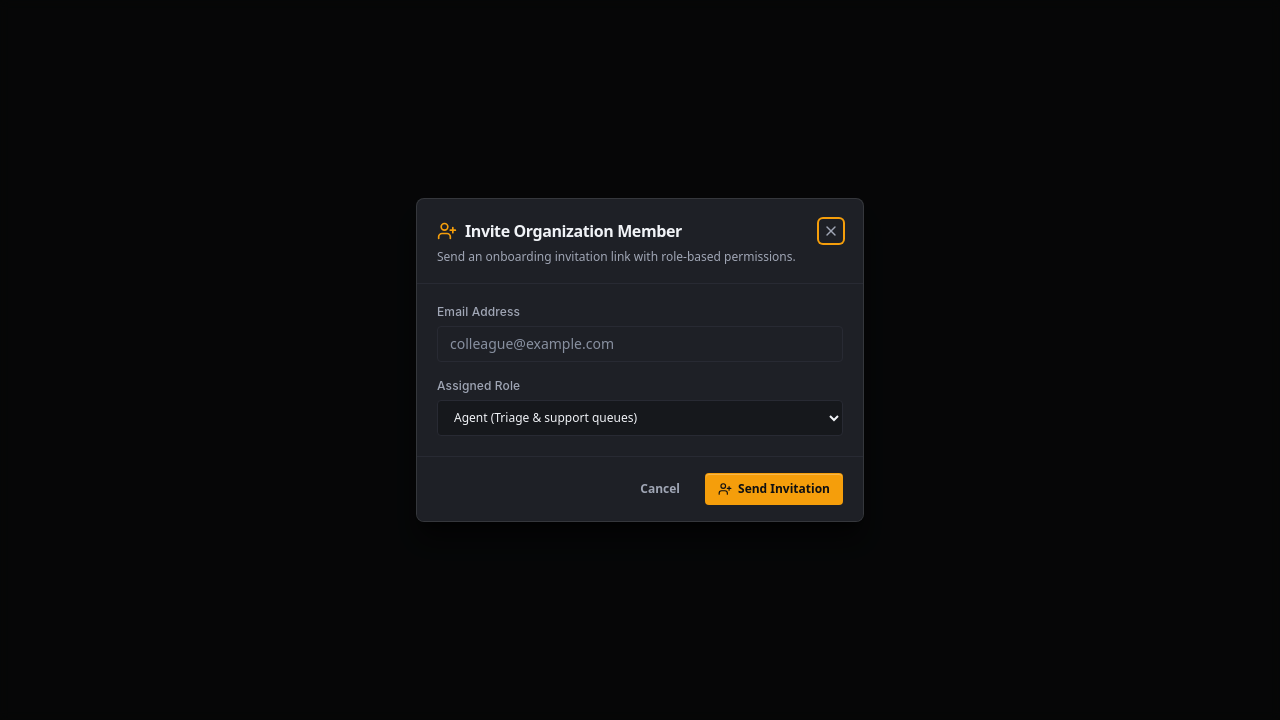
InviteMemberModal Component › prevents submission and displays error for empty or invalid email
Submit the form with test id "invite-form", box [417,199,863,521]
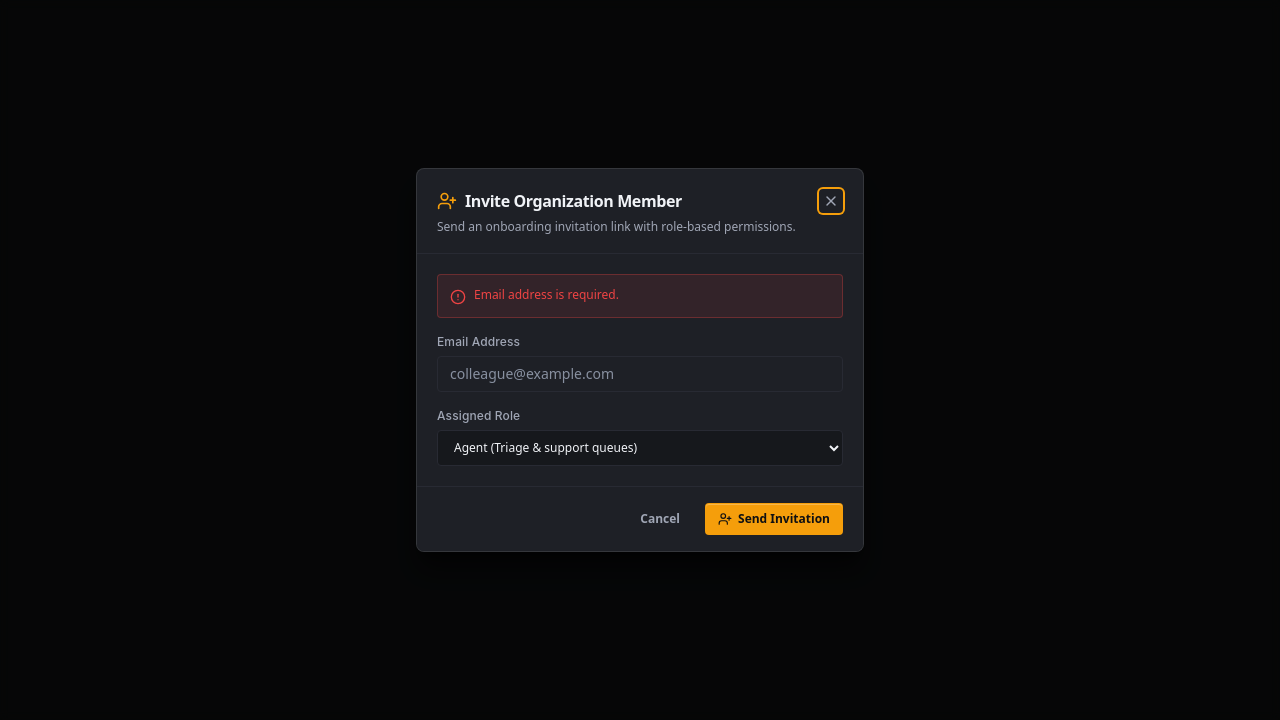
Result: the element with test id "invite-error" shows "Email address is required" at [474,286,619,303]
Invalid format
Type "not-an-email" into the field with test id "invite-email-input" at (640, 374), box [437,356,843,392]
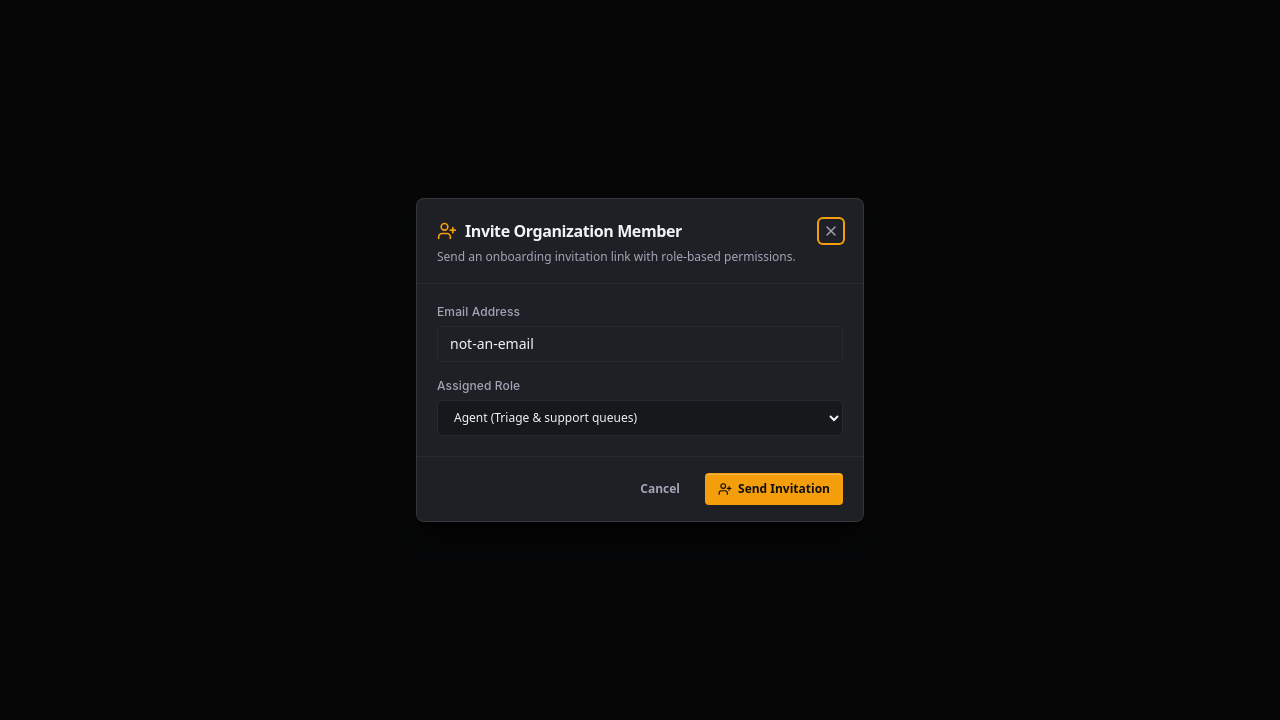
Submit the form with test id "invite-form", box [417,199,863,521]
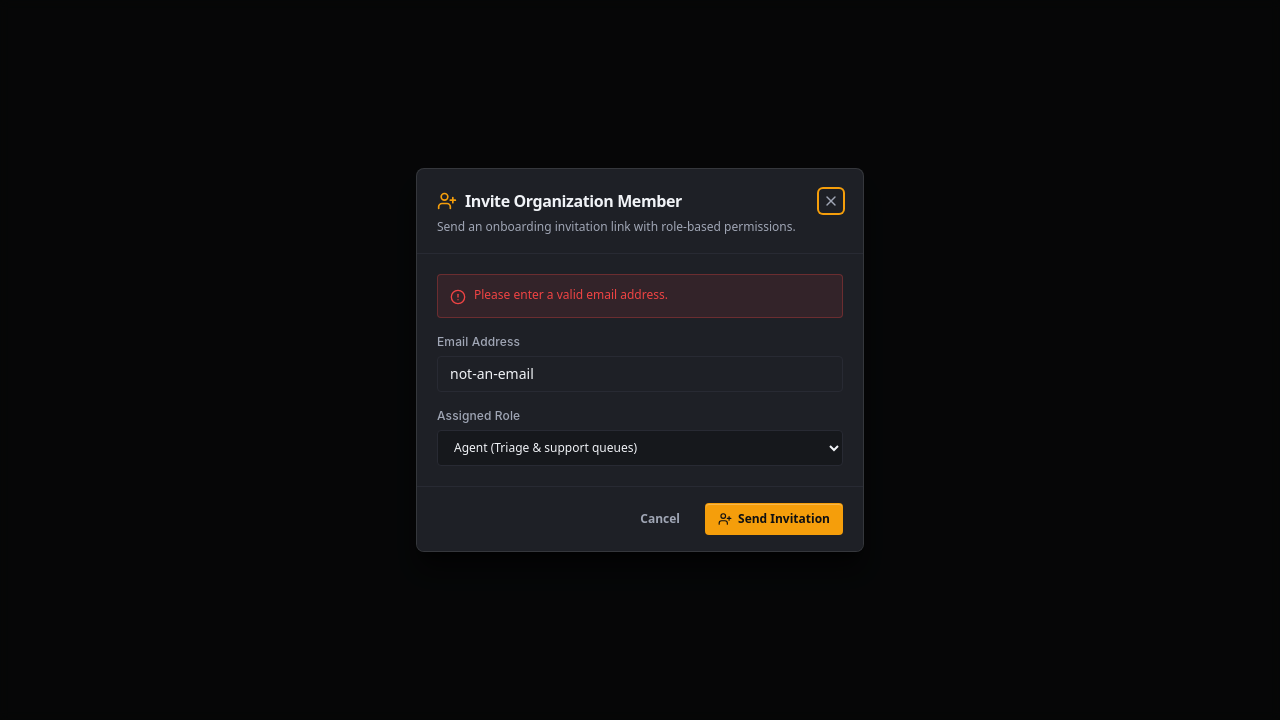
Result: the element with test id "invite-error" shows "valid email address" at [474,286,668,303]
